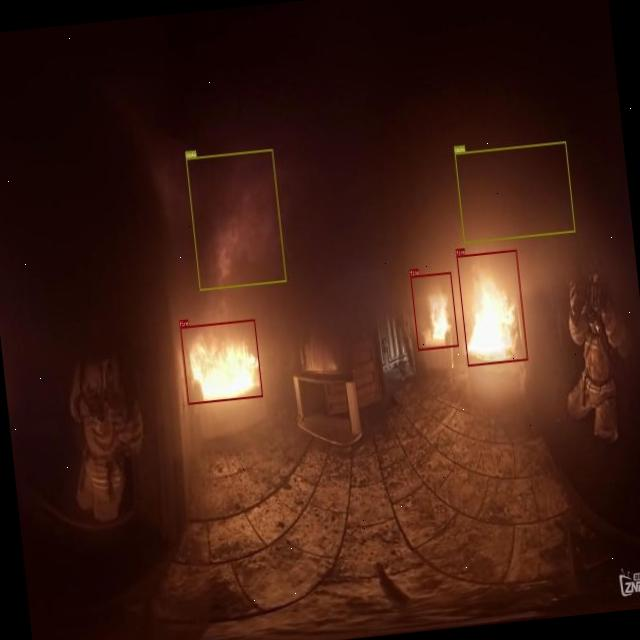fire: (456, 248, 527, 366), (180, 318, 262, 404), (409, 271, 458, 350)
smoke: (185, 148, 286, 290), (454, 142, 575, 244)
